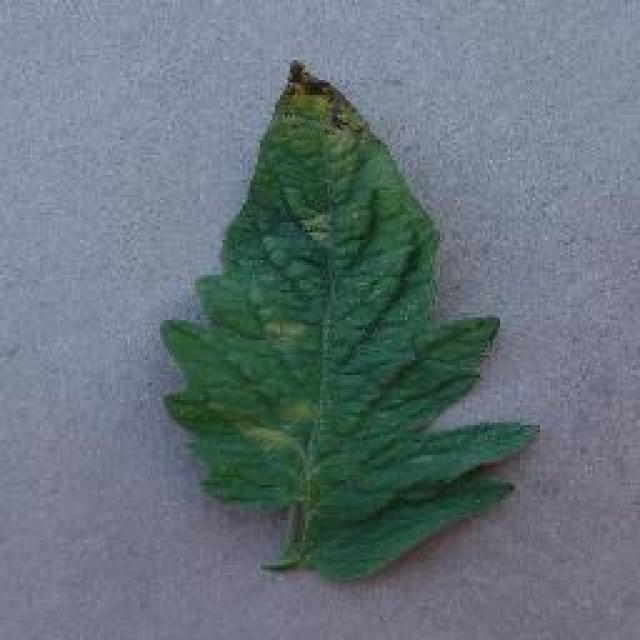Tomato___Leaf_Mold: (162, 62, 535, 575)
